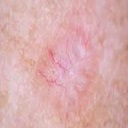Carcinoma: (40, 44, 85, 90)
